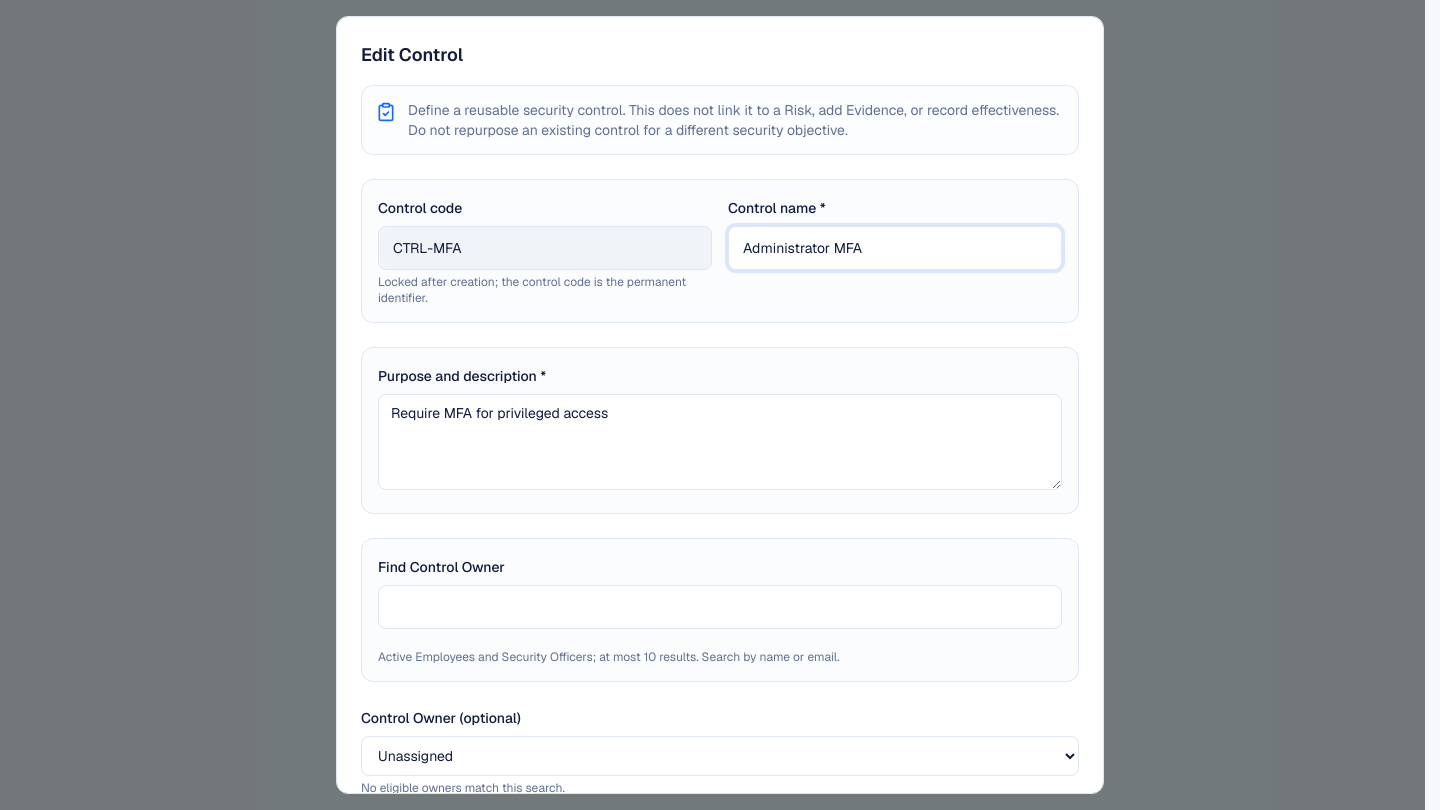
Test: ControlEditor › preserves edits after a stale response and disables repeated saves
The image size is (1440, 810).
Type " updated" into the field labelled "Control name *". click: coordinates (895, 248)
box: [728, 226, 1062, 270]
(page scrolled)
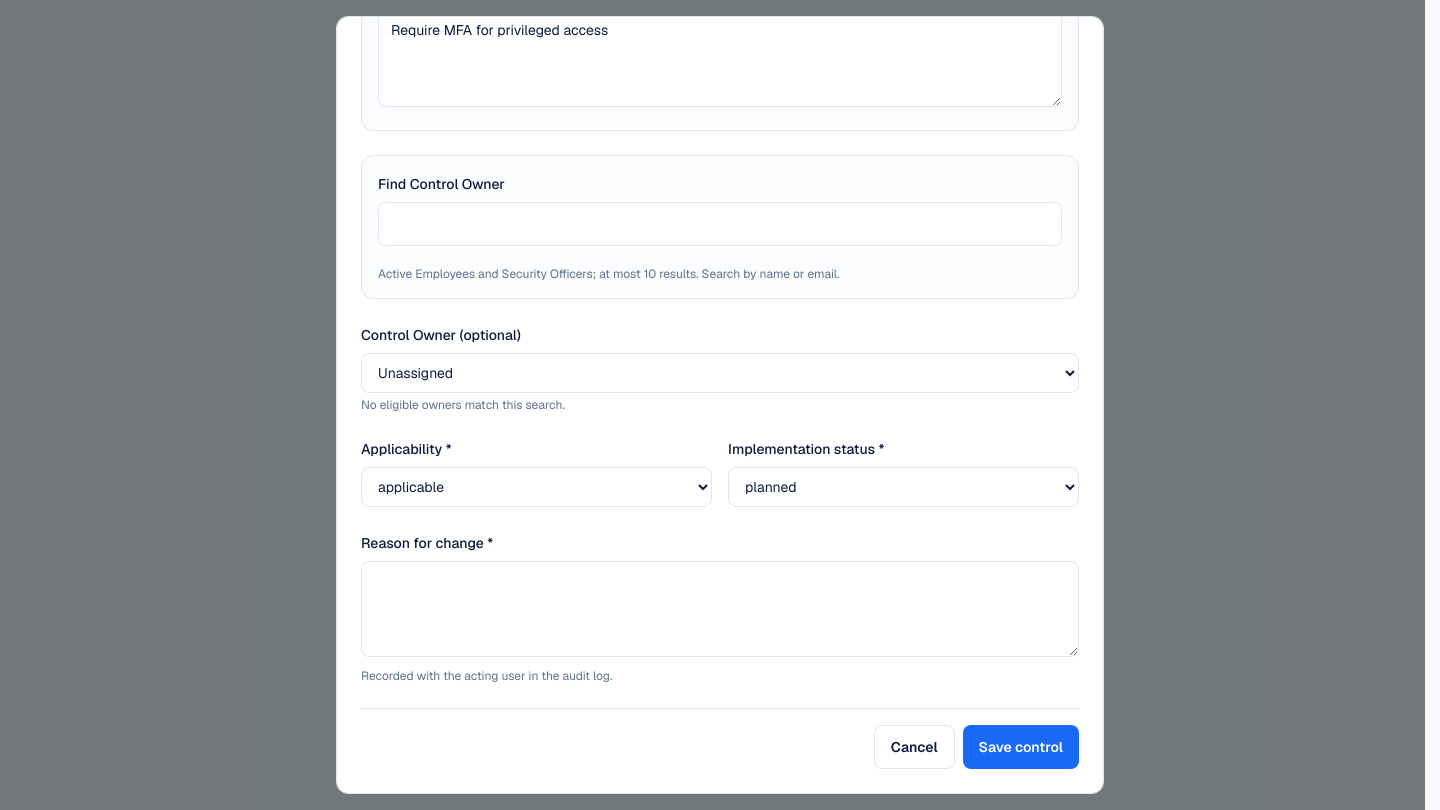
Type "Correct control metadata" into the text box labelled "Reason for change *". click: coordinates (720, 609)
box: [361, 561, 1079, 657]
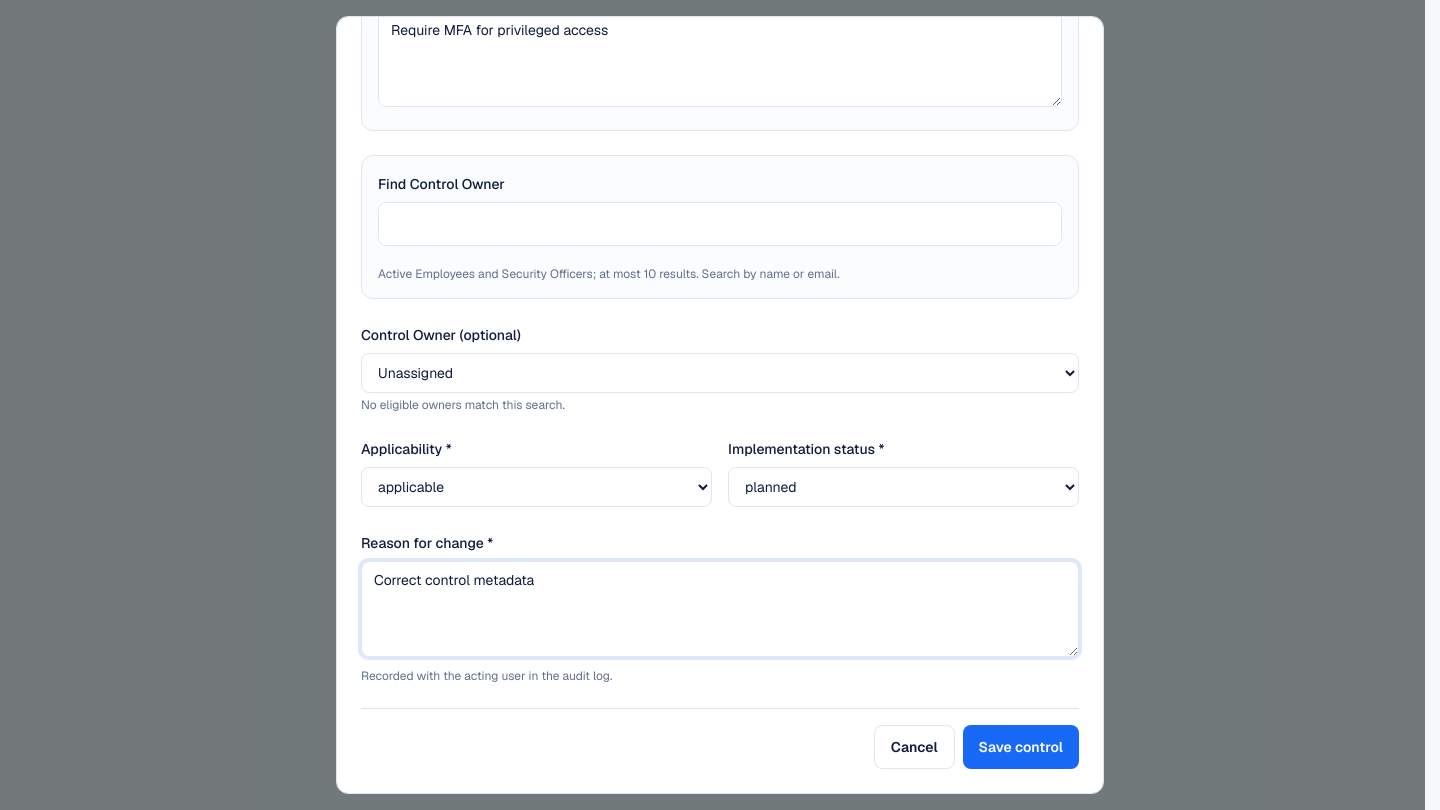
Click the button "Save control". click: coordinates (1021, 747)
box: [963, 725, 1079, 769]
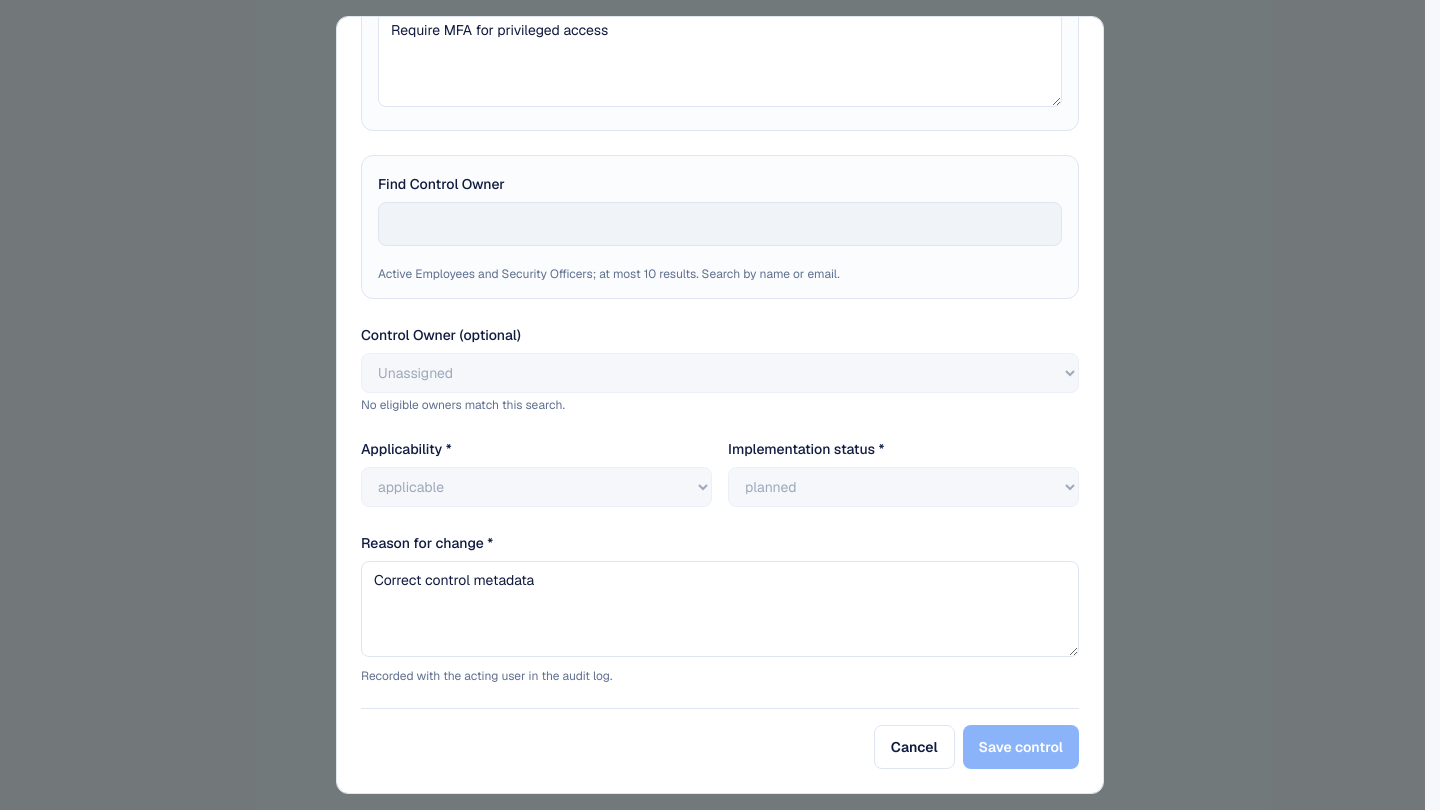
Now the button "Save control" is disabled, box [963, 725, 1079, 769]
